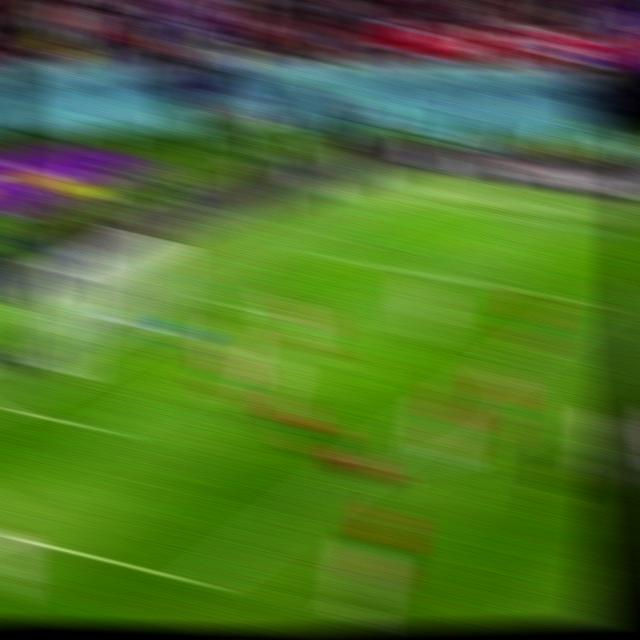bigarea_bottom_inner: (176, 564, 226, 601)
bigarea_top_inner: (579, 293, 614, 315)
bigarea_top_outter: (297, 244, 332, 264)
corner: (402, 197, 439, 213)
smallarea_bottom_inner: (86, 414, 128, 445)
smallarea_bottom_outter: (0, 393, 19, 419)
smallarea_top_outter: (199, 291, 233, 311)
top_arc_area_intersection: (485, 362, 516, 380)
